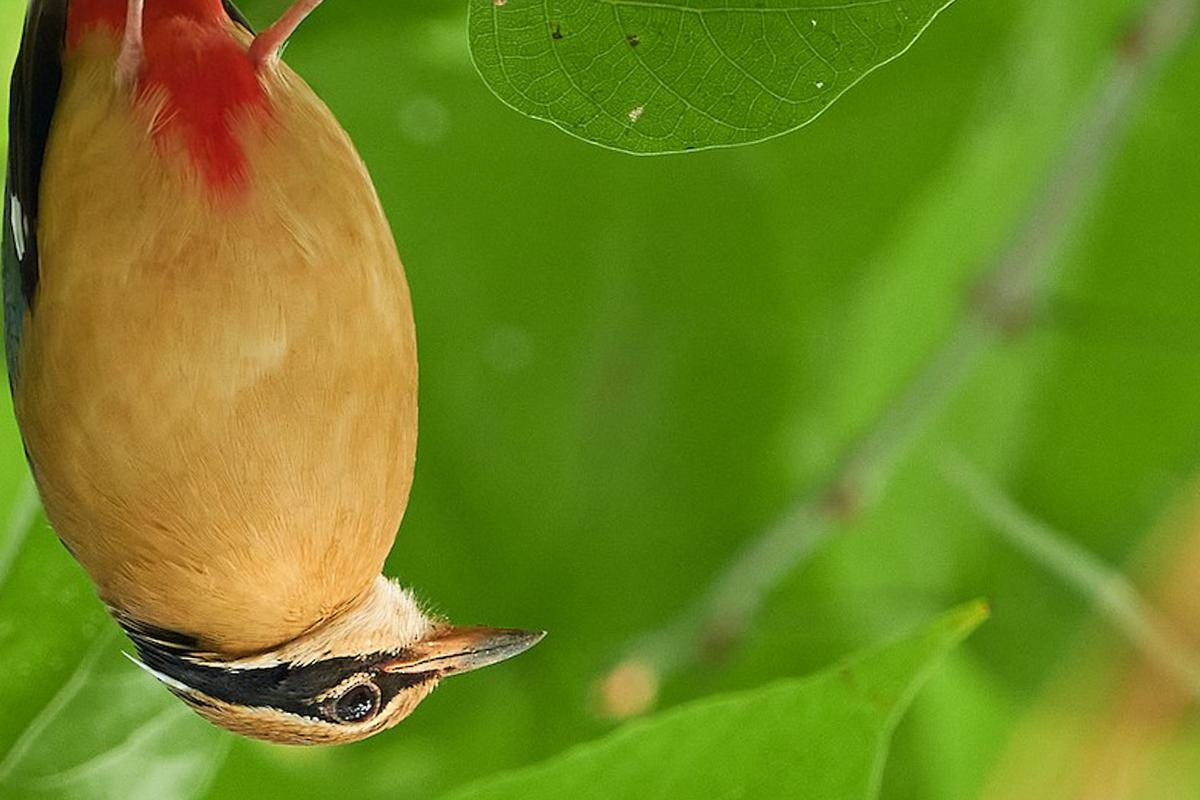pitta: (1, 55, 599, 755)
